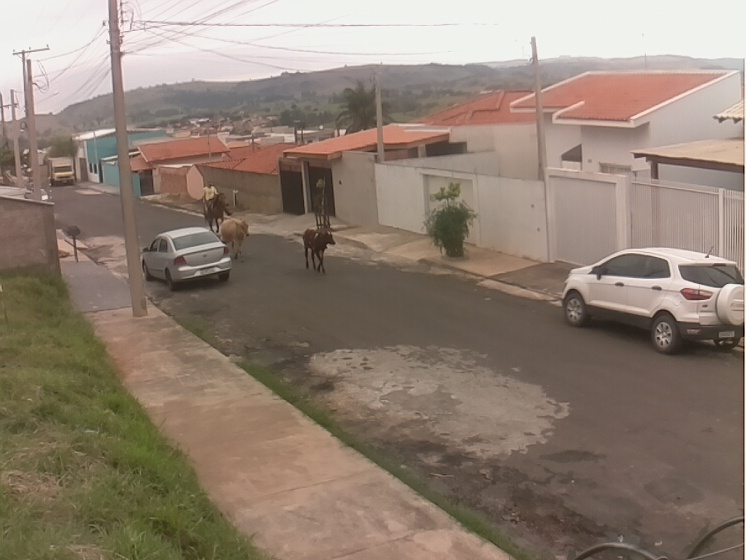person: (201, 181, 218, 204)
